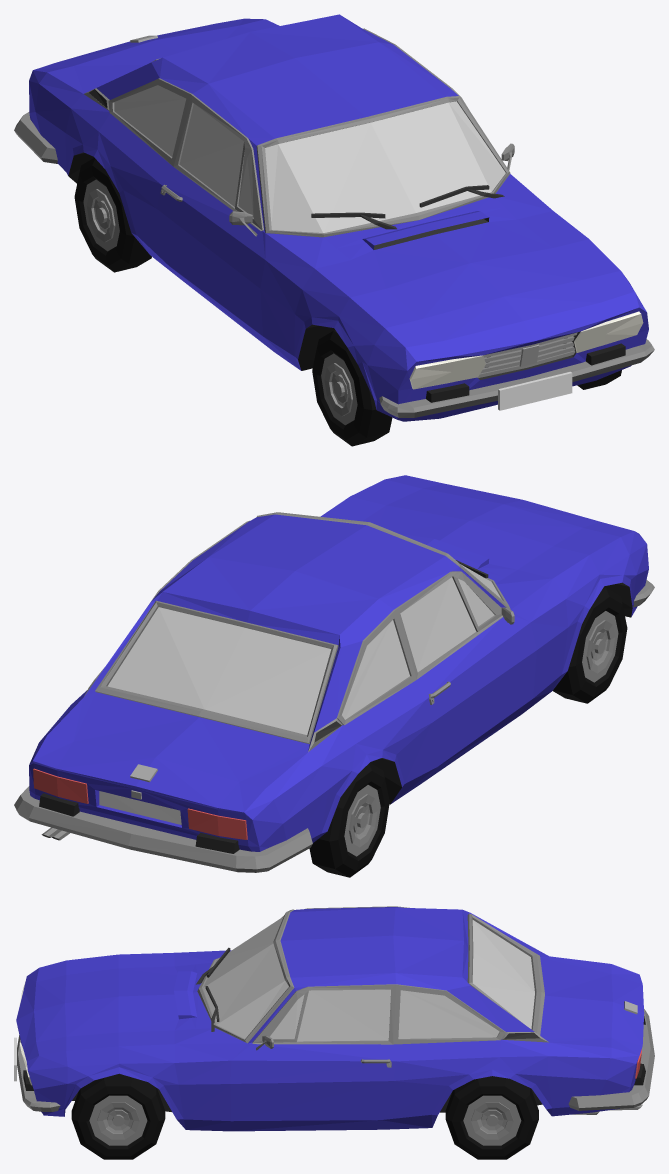
File: Peugeot_504_SkF.fbx
3 renders of one model, top to bottom at view 1: azimuth 30°, elevation 25°; view 2: azimuth 150°, elevation 25°; view 3: azimuth 270°, elevation 25°, orthographic. The views are drawn at different scales.
Visible parts, largest first — view 1: Peugeot_504_coupe, Window, front_wheel_right, rear_wheel_left; view 2: Peugeot_504_coupe, Window, rear_wheel_left, front_wheel_right; view 3: Peugeot_504_coupe, Window, front_wheel_left, rear_wheel_right.
Part boxes in pixels (x1,y1,x2,y2): Peugeot_504_coupe: (14, 14, 654, 421); Window: (114, 85, 505, 232); front_wheel_right: (312, 330, 392, 446); rear_wheel_left: (74, 157, 151, 272); Peugeot_504_coupe: (14, 475, 654, 872); Window: (107, 564, 501, 734); rear_wheel_left: (309, 763, 389, 877); front_wheel_right: (553, 587, 627, 703); Peugeot_504_coupe: (14, 906, 654, 1131); Window: (203, 916, 534, 1041); front_wheel_left: (71, 1073, 165, 1159); rear_wheel_right: (445, 1076, 538, 1159).
Bounding box in the file's own units: 177 × 132 × 439.
Materials: 2 (1 with a texture image).
